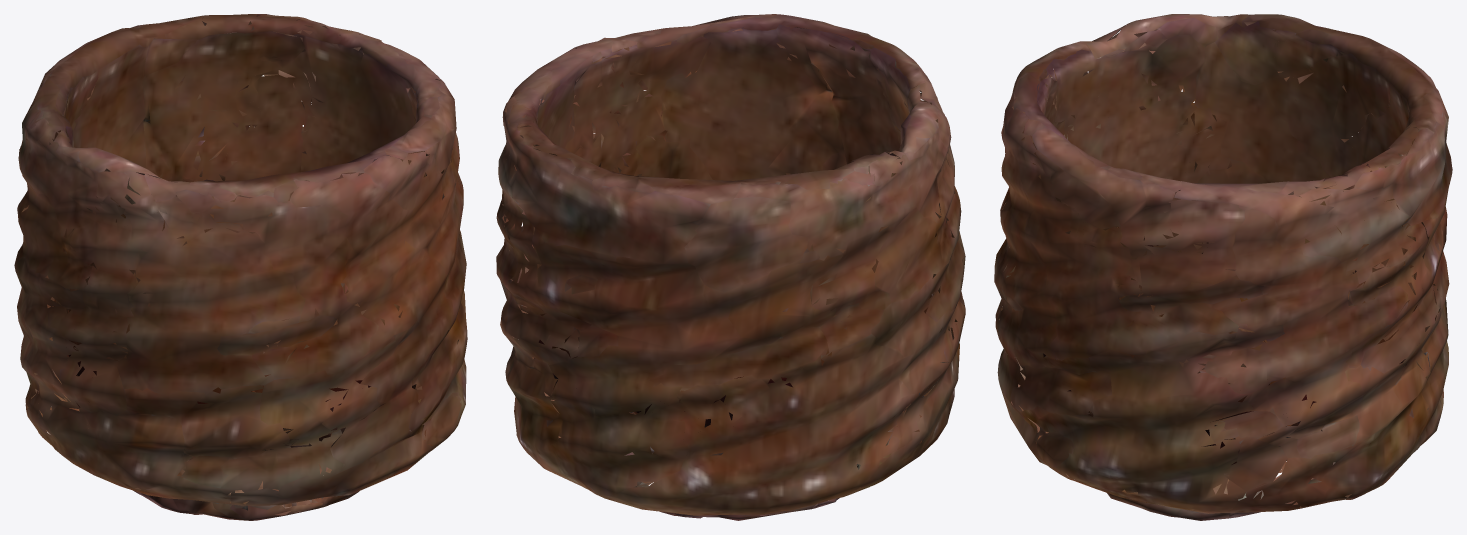
Rendered from hm-japanese-coiled-tea-bowl.glb.
3 views of the same model, side by side, from view 1: azimuth 30°, elevation 25°; view 2: azimuth 150°, elevation 25°; view 3: azimuth 270°, elevation 25° (orthographic).
Parts seen in each view (by area): view 1: Object_2, Object_3; view 2: Object_2, Object_3; view 3: Object_2, Object_3.
Part boxes in pixels (<box>): Object_2: <box>14,14,467,520</box>; Object_3: <box>19,14,463,514</box>; Object_2: <box>496,14,965,516</box>; Object_3: <box>496,14,964,520</box>; Object_2: <box>994,14,1448,520</box>; Object_3: <box>997,14,1452,504</box>.
Bounding box in the file's own units: 0.0809 × 0.0709 × 0.079.
Materials: 1 (1 with a texture image).
